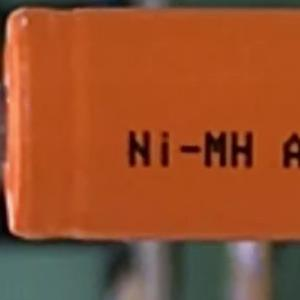keyword: (118, 122, 263, 177)
